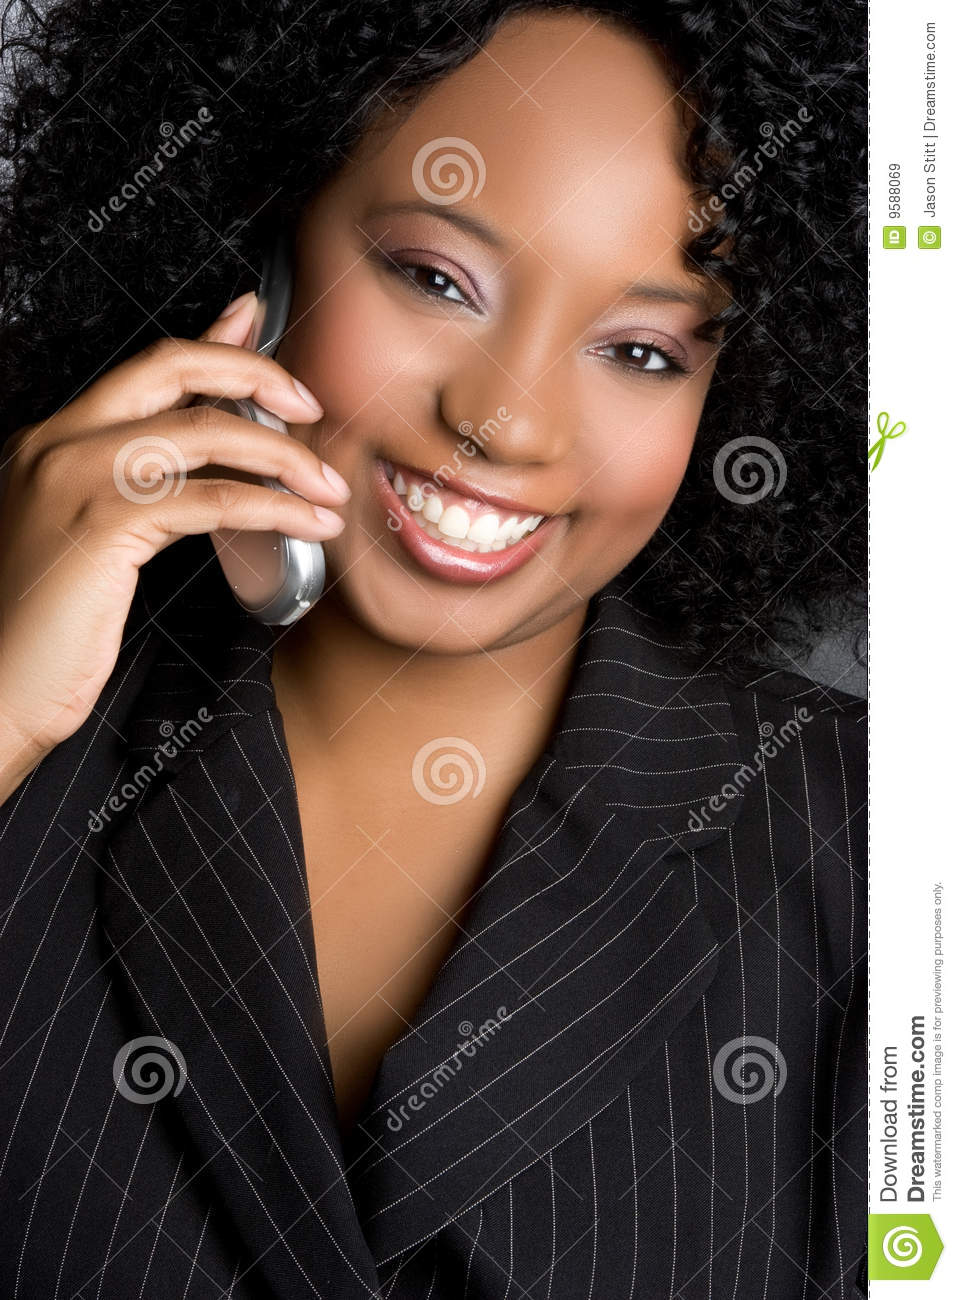phone: (179, 221, 330, 646)
talk: (6, 181, 717, 822)
